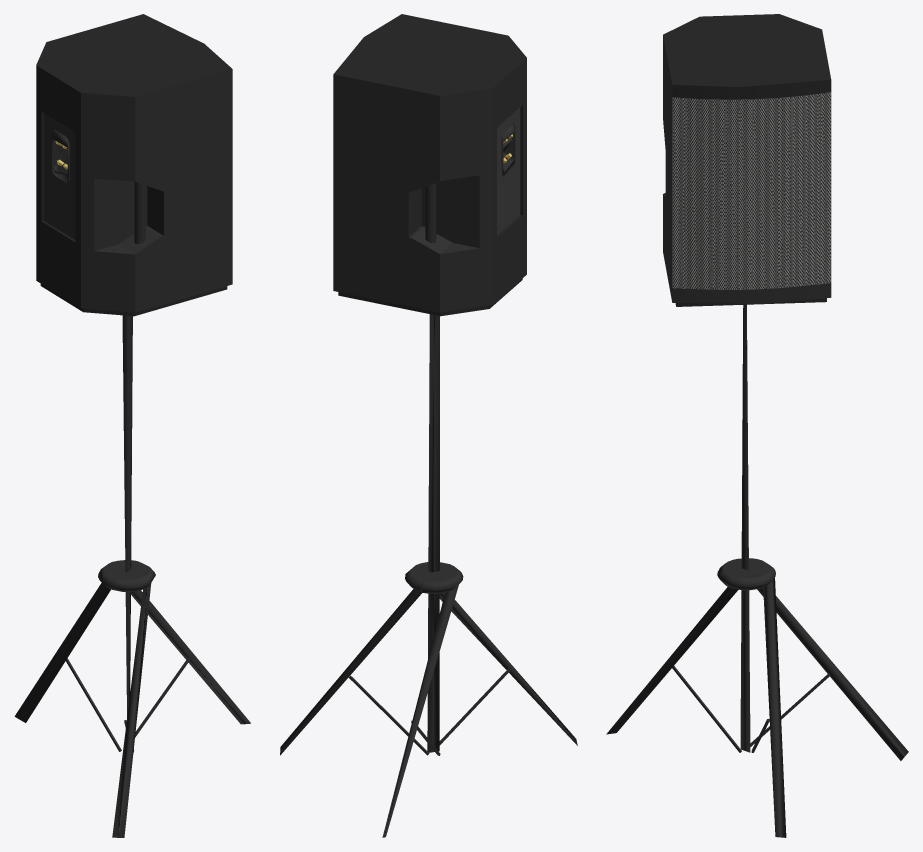
The model's file is speaker.glb.
3 views of the same model, side by side, from view 1: azimuth 30°, elevation 25°; view 2: azimuth 150°, elevation 25°; view 3: azimuth 270°, elevation 25° (orthographic).
Visible parts, largest first — view 1: Object_2; view 2: Object_2; view 3: Object_8, Object_2.
Boxes of the visible parts, x1,y1,x2,y2 form: Object_2: (14,14,250,837); Object_2: (280,14,577,837); Object_8: (672,92,831,289); Object_2: (606,14,908,837).
Size of the model in its own units: 0.816 by 2.56 by 0.9717.
Materials: 3 (2 with a texture image).
